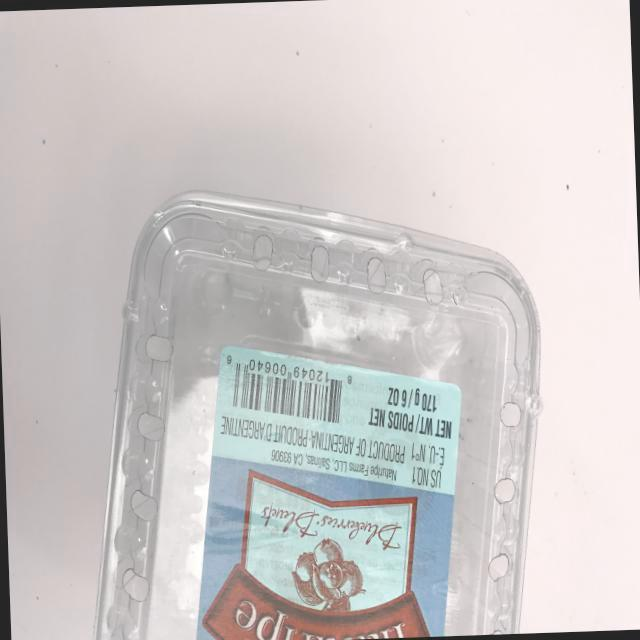plastic: (70, 165, 560, 640)
